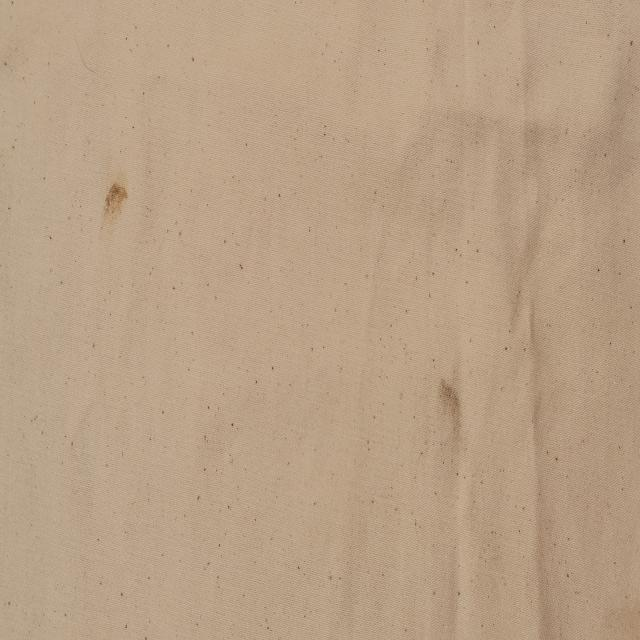taaaches: (433, 361, 471, 462), (100, 175, 134, 238)
